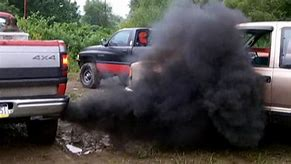smoke: (69, 1, 253, 148)
